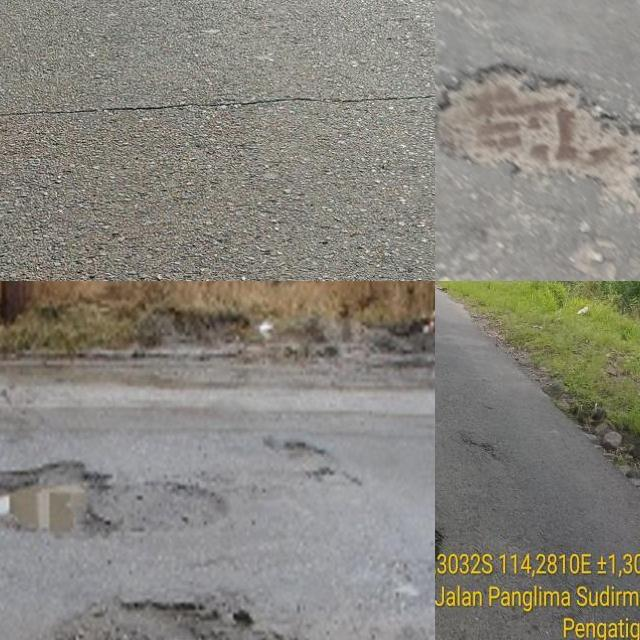Lubang: (435, 73, 640, 206), (0, 466, 220, 544), (61, 605, 292, 640)
Melintang: (0, 82, 435, 128)
